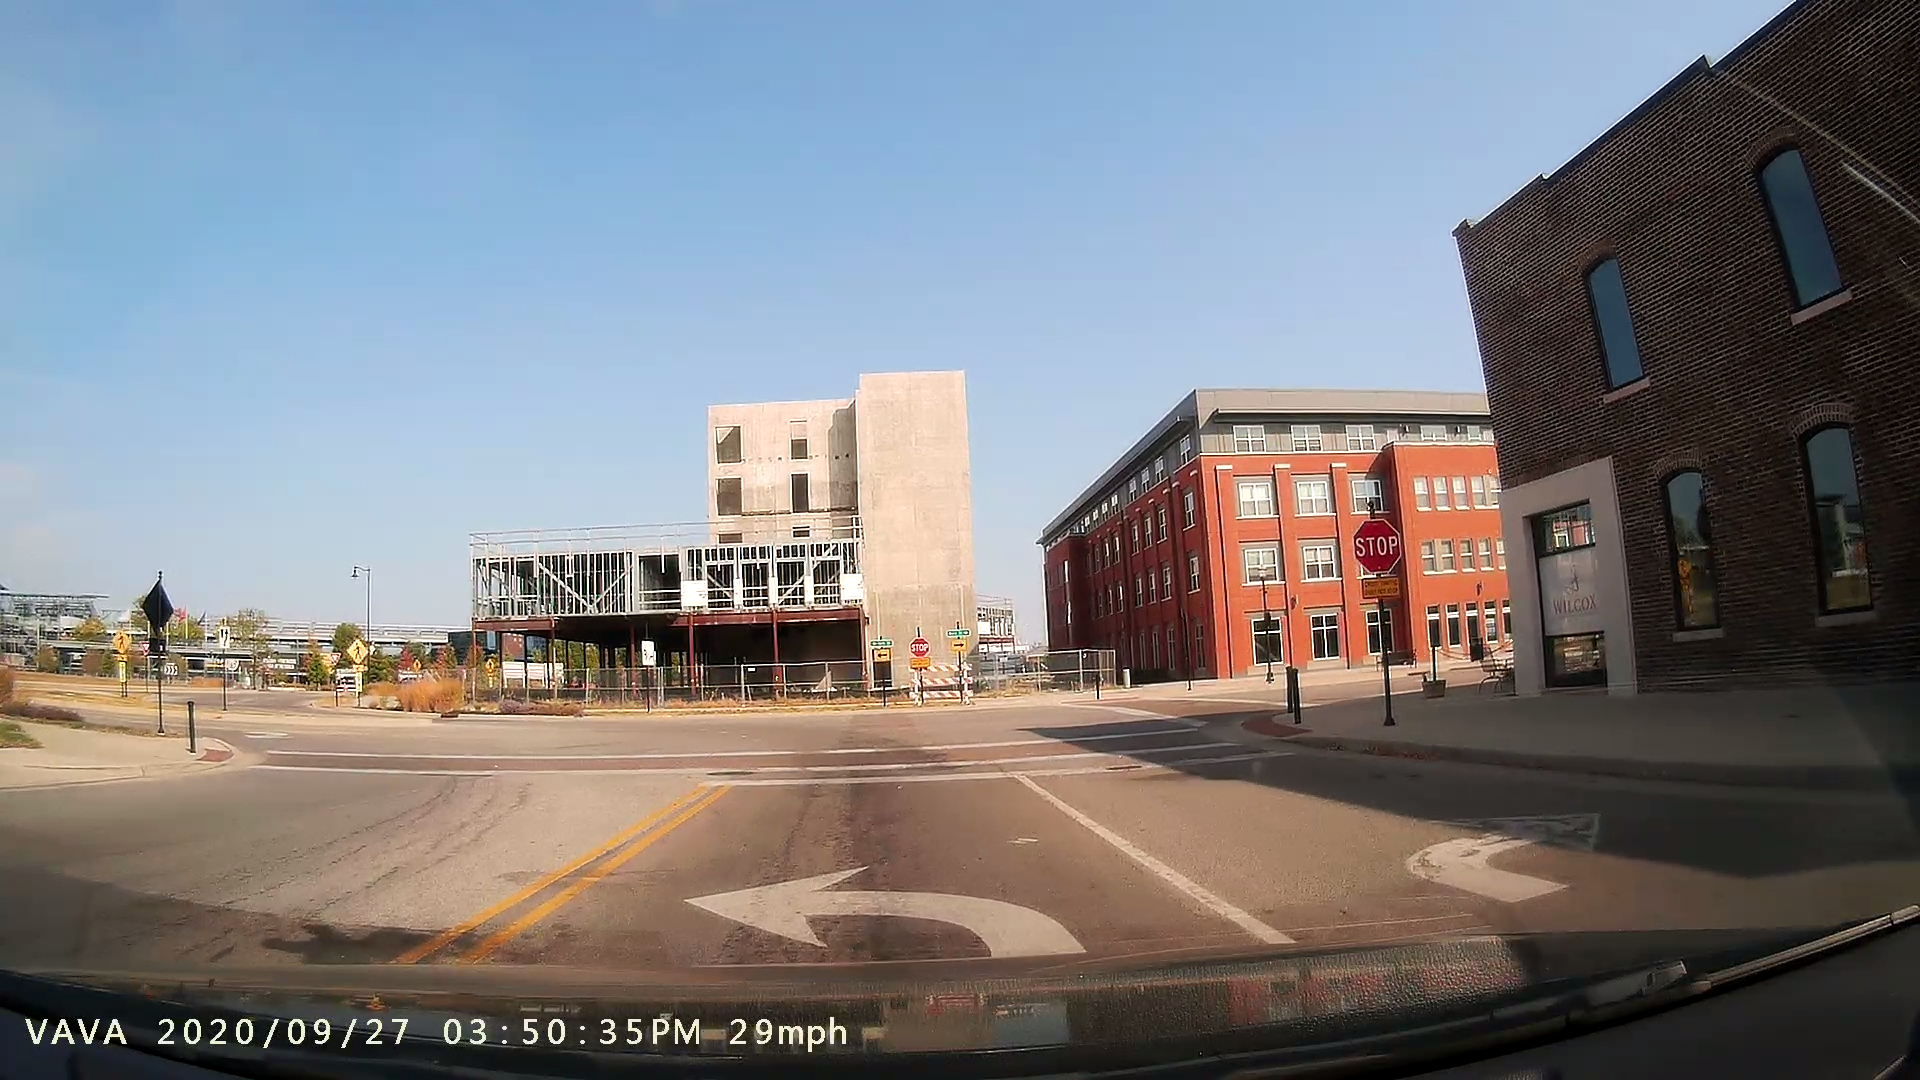left_turn: (661, 845, 1087, 953)
right_turn: (1385, 794, 1625, 915)
